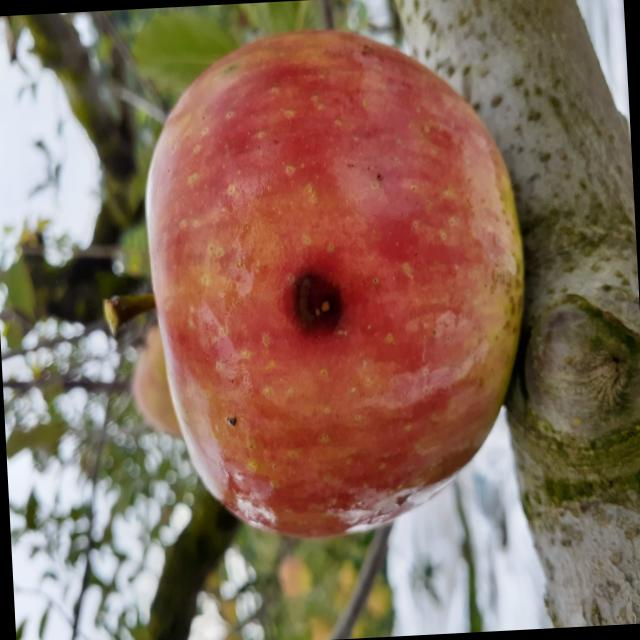rotten: (127, 5, 547, 561)
